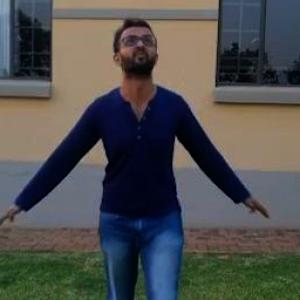land: (1, 12, 272, 299)
